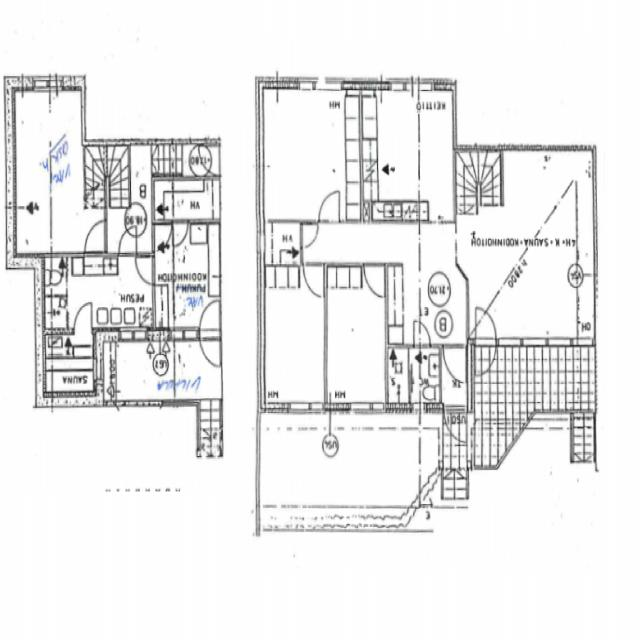door: (445, 404, 467, 449), (476, 338, 497, 380), (476, 307, 497, 348), (200, 298, 219, 342), (444, 344, 466, 382), (200, 328, 219, 371), (364, 263, 384, 299), (85, 222, 107, 252), (320, 190, 340, 223), (202, 147, 224, 176), (305, 264, 324, 296), (75, 301, 92, 335), (135, 260, 155, 286), (152, 226, 172, 252), (414, 319, 431, 348), (120, 228, 136, 258), (173, 220, 189, 248), (301, 224, 319, 248)
